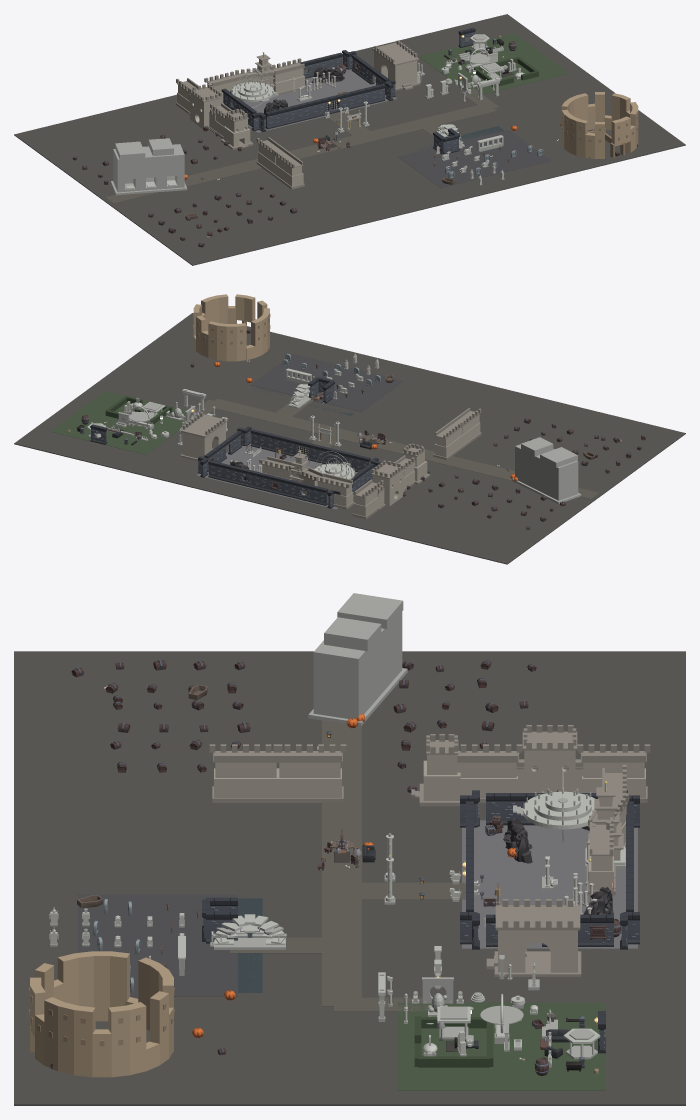
Rendered from blacksous_map.glb.
3 views of the same model, one above another, from view 1: azimuth 30°, elevation 25°; view 2: azimuth 150°, elevation 25°; view 3: azimuth 270°, elevation 25° (orthographic). The views are drawn at different scales.
Parts seen in each view (by area): view 1: ground_blacksous, tulou.001, grotto_cliff.001, gate_platform.001, greatwall_tower.001, greatwall_section.007, beacon_tower.001, greatwall_section.001, circular_altar.001, greatwall_section.002, greatwall_section.005, greatwall_section.004 (+2 smaller); view 2: ground_blacksous, tulou.001, grotto_cliff.001, gate_platform.001, greatwall_tower.001, greatwall_section.002, greatwall_section.004, greatwall_section.005, greatwall_section.001, beacon_tower.001, circular_altar.001, greatwall_section.007; view 3: ground_blacksous, tulou.001, grotto_cliff.001, gate_platform.001, greatwall_tower.001, greatwall_section.001, greatwall_section.002, greatwall_section.003, beacon_tower.001, greatwall_section.004, circular_altar.001, stone_bridge.001 (+7 smaller).
Part boxes in pixels (box(x1,y1,x2,y2)): ground_blacksous: box(14, 14, 685, 265); tulou.001: box(561, 92, 638, 158); grotto_cliff.001: box(111, 138, 187, 195); gate_platform.001: box(372, 40, 419, 90); greatwall_tower.001: box(188, 84, 222, 133); greatwall_section.007: box(269, 58, 306, 95); beacon_tower.001: box(221, 109, 253, 149); greatwall_section.001: box(273, 149, 304, 189); circular_altar.001: box(231, 69, 273, 107); greatwall_section.002: box(256, 137, 285, 176); greatwall_section.005: box(204, 70, 242, 103); greatwall_section.004: box(176, 78, 201, 113); ground_blacksous: box(14, 313, 685, 564); tulou.001: box(193, 294, 270, 361); grotto_cliff.001: box(512, 437, 581, 503); gate_platform.001: box(180, 412, 228, 460); greatwall_tower.001: box(371, 460, 405, 510); greatwall_section.002: box(433, 420, 464, 459); greatwall_section.004: box(352, 479, 383, 519); greatwall_section.005: box(315, 473, 354, 509); greatwall_section.001: box(452, 408, 481, 447); beacon_tower.001: box(402, 443, 429, 484); circular_altar.001: box(313, 451, 354, 479); greatwall_section.007: box(259, 456, 294, 479); ground_blacksous: box(14, 651, 685, 1105); tulou.001: box(29, 951, 174, 1077); grotto_cliff.001: box(308, 593, 407, 725); gate_platform.001: box(486, 899, 581, 976); greatwall_tower.001: box(516, 725, 583, 792); greatwall_section.001: box(209, 744, 282, 802); greatwall_section.002: box(273, 744, 346, 802); greatwall_section.003: box(457, 744, 522, 802); beacon_tower.001: box(411, 734, 460, 806); greatwall_section.004: box(577, 744, 650, 802); circular_altar.001: box(513, 766, 599, 843); stone_bridge.001: box(213, 914, 286, 949).
Size of the model in its own units: 134 by 11.19 by 84.
Materials: 179 (29 with a texture image).
